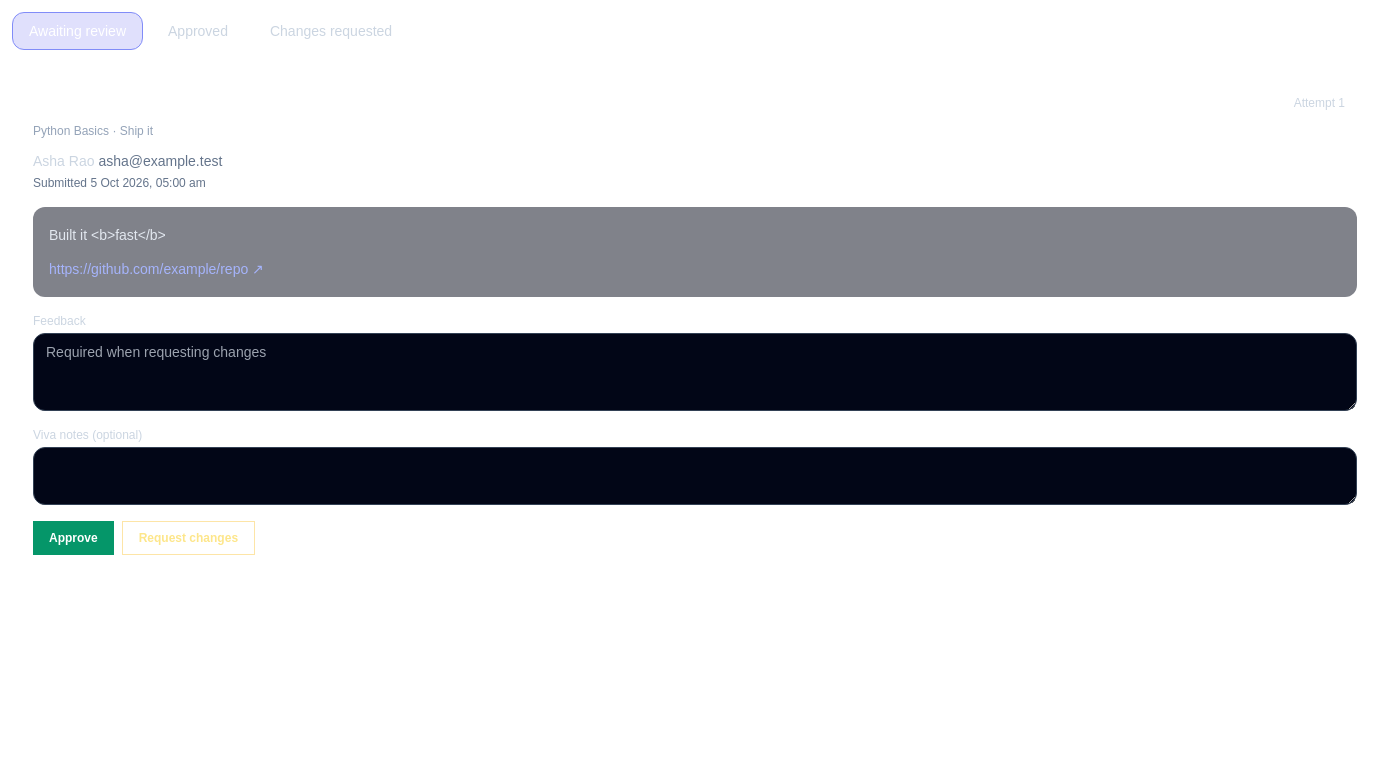
Scenario: ProjectReviewQueue › requires feedback before requesting changes
What coordinates should you click on to do the following:
click the button "Request changes"
I would click on:
 (188, 538)
Its box is [122, 521, 255, 555].
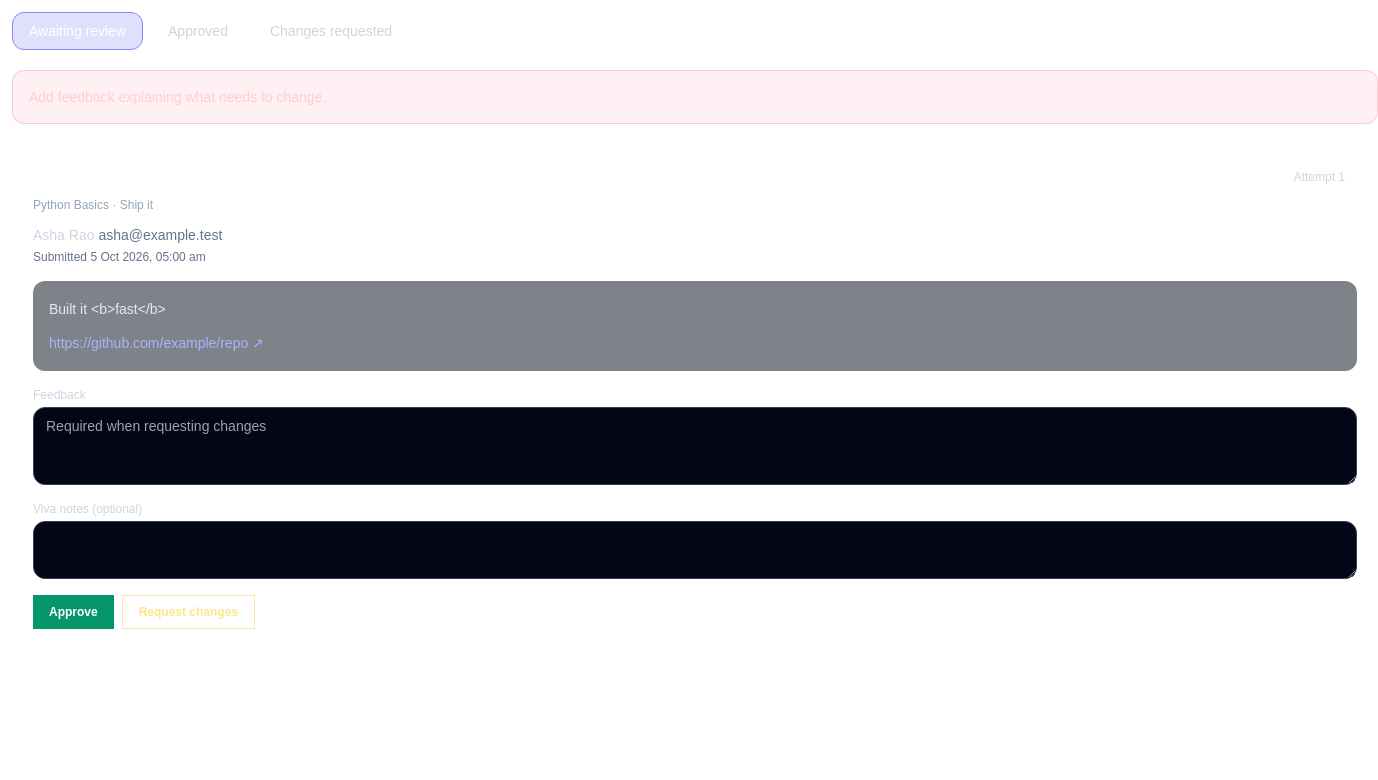
Now the message shows "Add feedback", box [29, 89, 326, 105]
